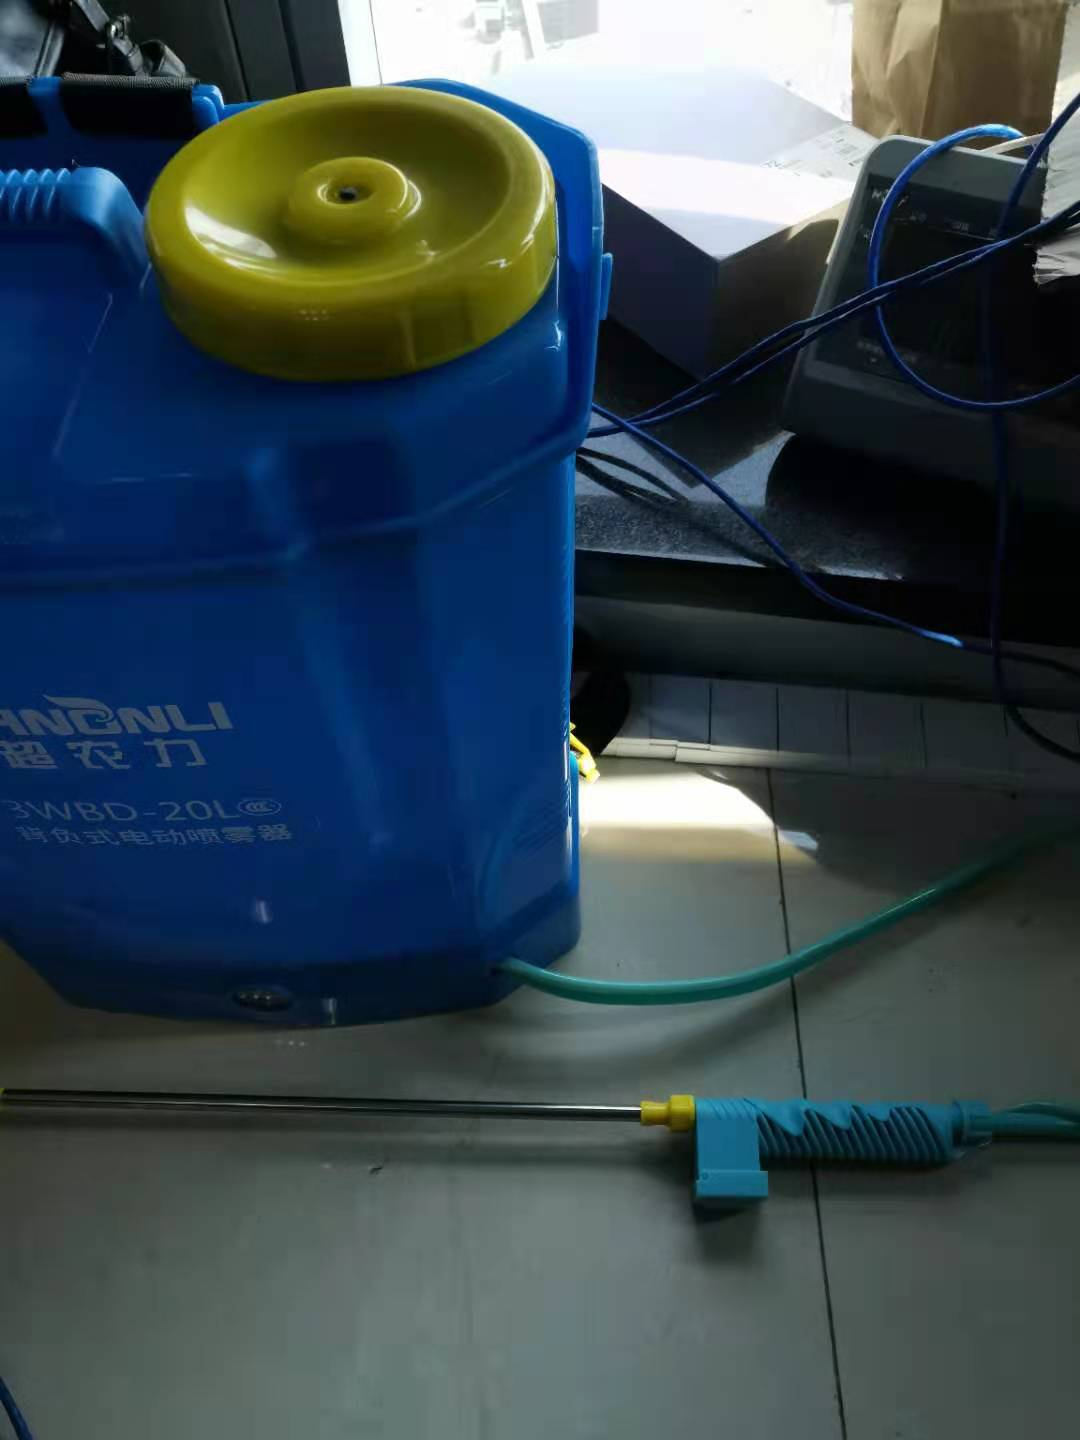berrl: (5, 63, 617, 1020)
